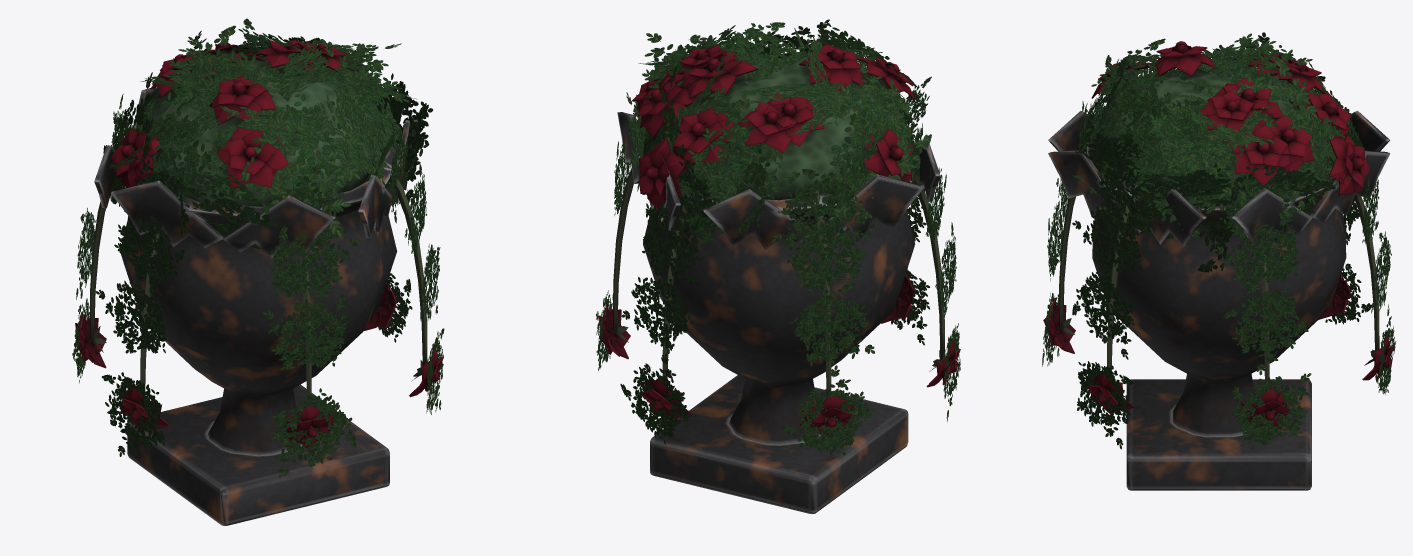
File: BloodRoseUrn.fbx
3 views of the same model, side by side, from view 1: azimuth 30°, elevation 25°; view 2: azimuth 150°, elevation 25°; view 3: azimuth 270°, elevation 25° (orthographic). The views are drawn at different scales.
Parts seen in each view (by area): view 1: BloodRoseUrn_Main, BloodRoseUrn_Leaves; view 2: BloodRoseUrn_Main, BloodRoseUrn_Leaves; view 3: BloodRoseUrn_Main, BloodRoseUrn_Leaves.
Boxes of the visible parts, box(x1,y1,x2,y2) form: BloodRoseUrn_Main: box(75, 40, 443, 525); BloodRoseUrn_Leaves: box(72, 18, 444, 477); BloodRoseUrn_Main: box(598, 44, 960, 513); BloodRoseUrn_Leaves: box(596, 19, 960, 455); BloodRoseUrn_Main: box(1043, 41, 1393, 490); BloodRoseUrn_Leaves: box(1042, 32, 1396, 449).
Size of the model in its own units: 374 by 413 by 347.
